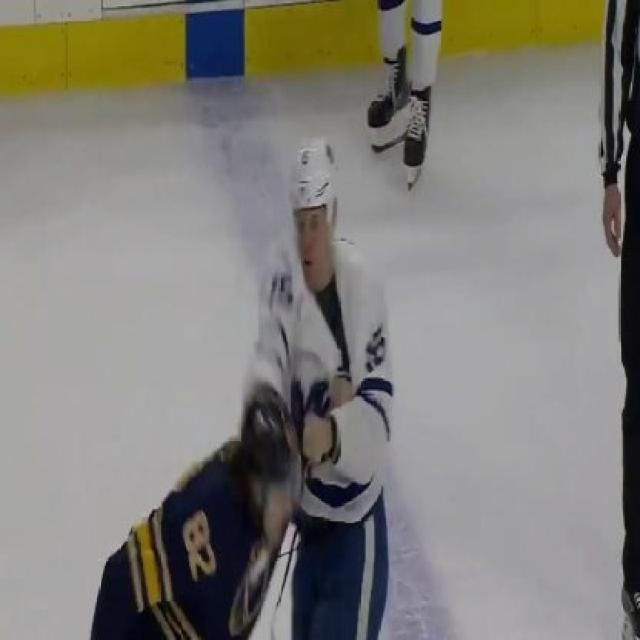fight: (83, 135, 409, 640)
non-fight: (586, 0, 640, 640), (358, 0, 445, 191)
